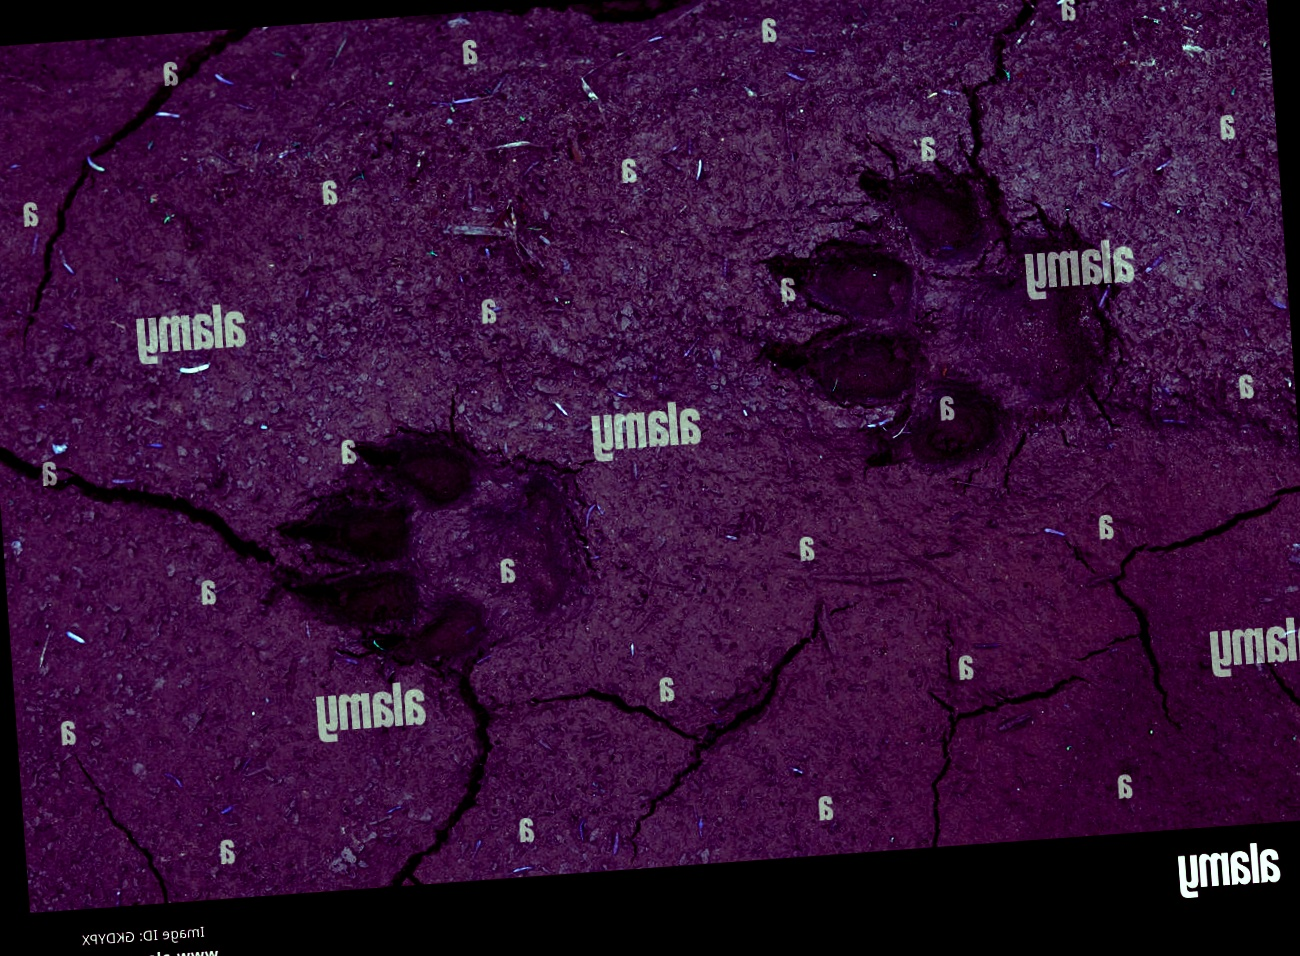loup: (119, 141, 565, 528), (685, 370, 1058, 689)
